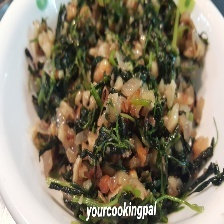sabzi: (21, 0, 224, 224)
